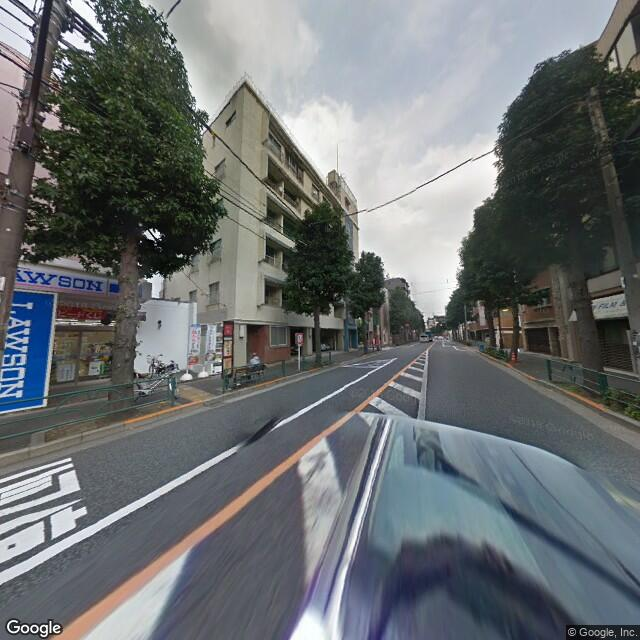lawson: (1, 283, 59, 408), (8, 260, 129, 300)
